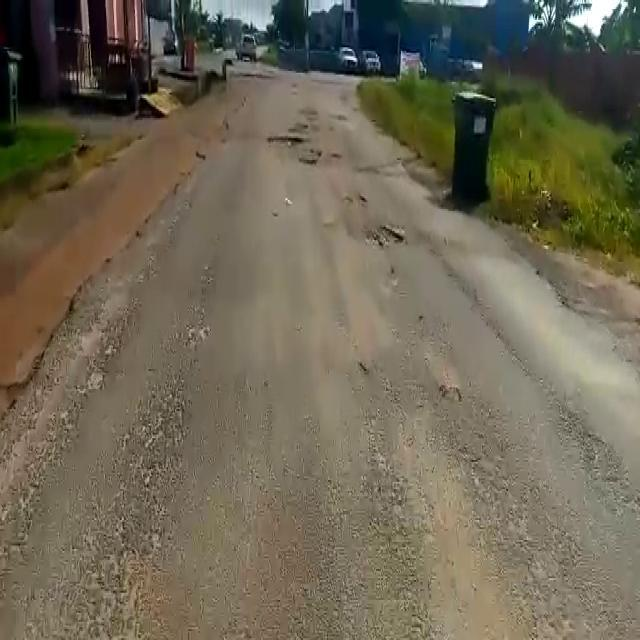pothole: (365, 223, 407, 252), (266, 130, 310, 147), (297, 153, 319, 170)
